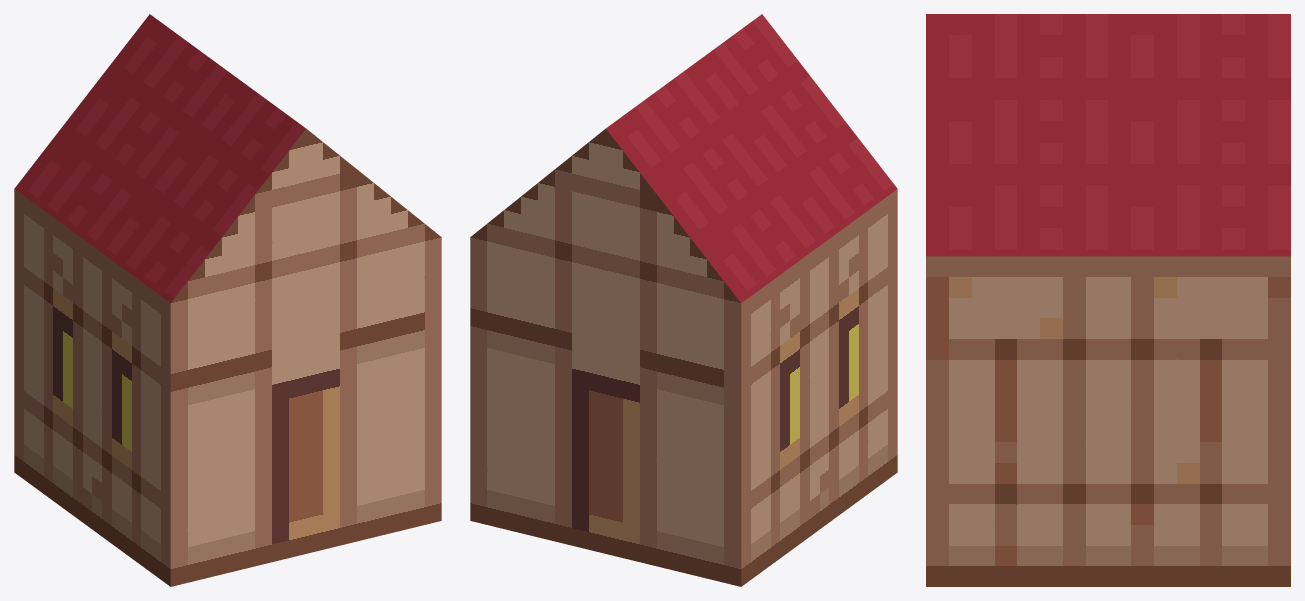
Rendered from block3.gltf.
3 views of the same model, side by side, from view 1: azimuth 30°, elevation 25°; view 2: azimuth 150°, elevation 25°; view 3: azimuth 270°, elevation 25° (orthographic). The views are drawn at different scales.
Parts seen in each view (by area): view 1: cube; view 2: cube; view 3: cube.
Boxes of the visible parts, box(x1,y1,x2,y2) form: cube: box(14, 14, 441, 586); cube: box(470, 14, 897, 586); cube: box(926, 14, 1290, 586).
Size of the model in its own units: 1 by 1.5 by 1.
